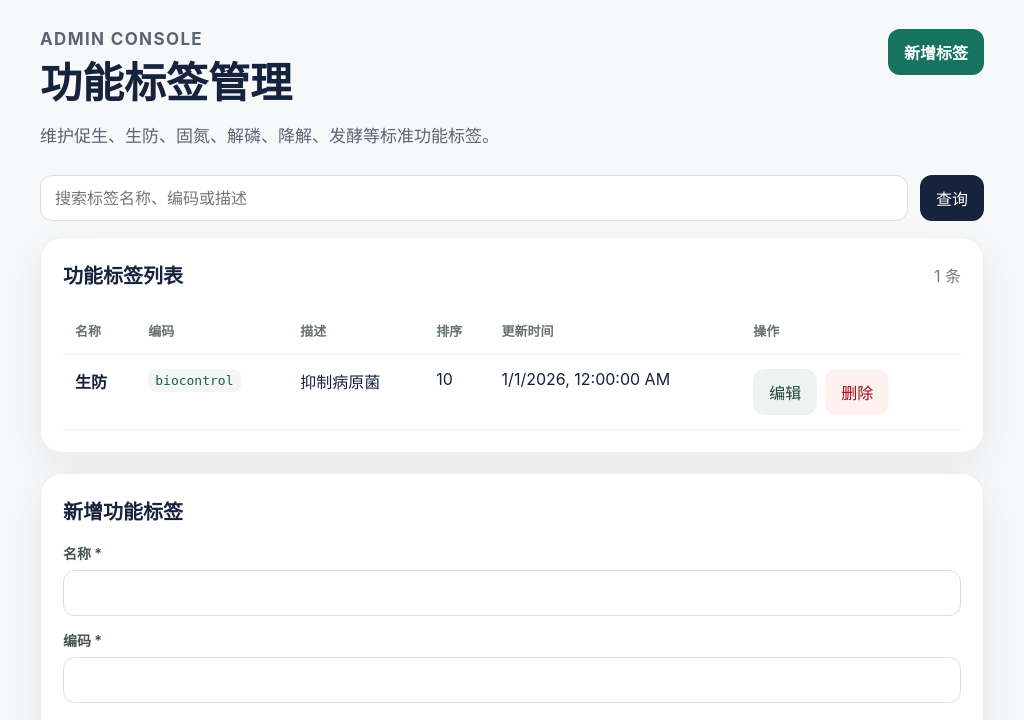
Test: FunctionTagManagement › 提交标准化功能标签
The image size is (1024, 720).
Expected: the text "biocontrol" is shown, 148,369 -> 240,392
Step 1. Type "固氮" into the field labelled "名称 *" → (512, 593), box 63,570 -> 961,616
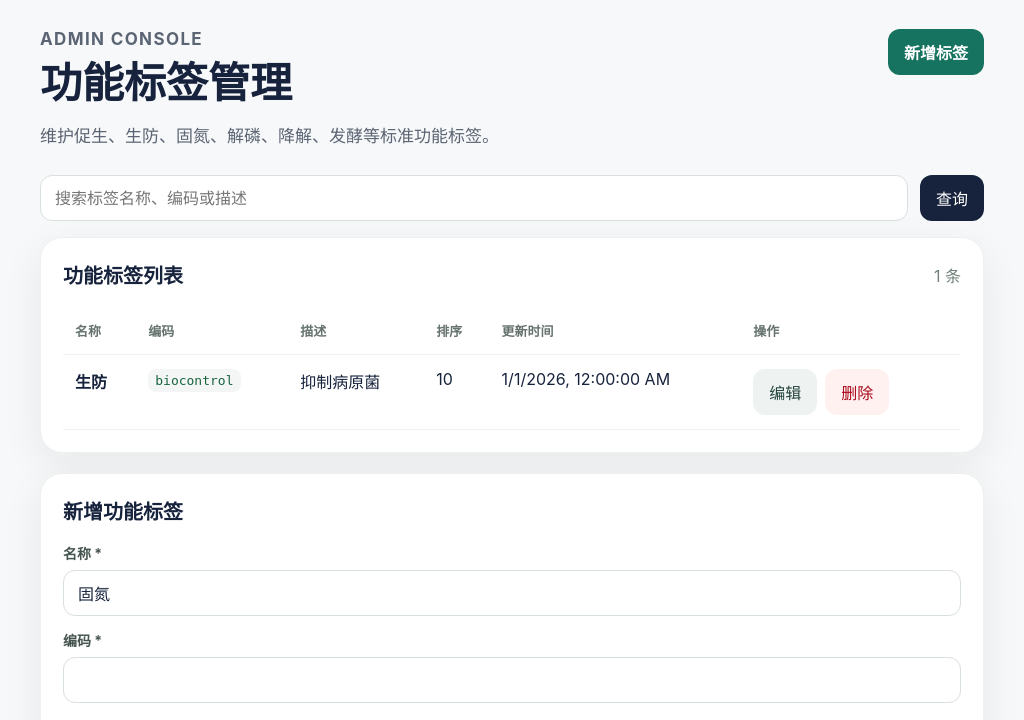
Step 2. Type "nitrogen-fixation" into the field labelled "编码 *" → (512, 680), box 63,657 -> 961,703
(page scrolled)
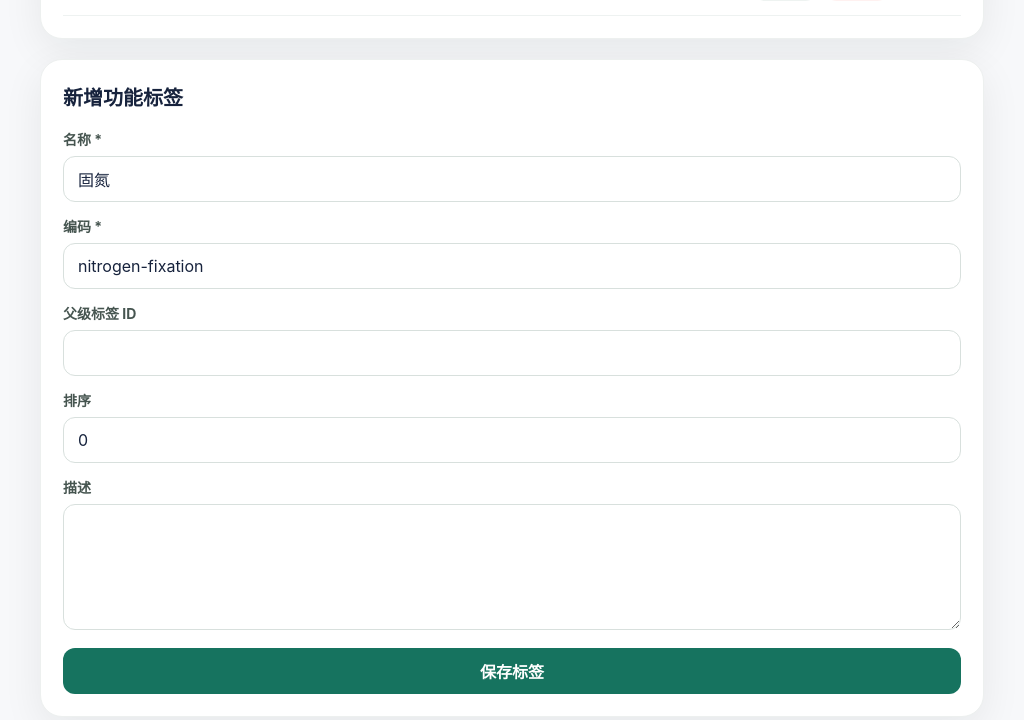
Step 3. Replace the text in the number field labelled "排序" with "20" → (512, 440), box 63,417 -> 961,463
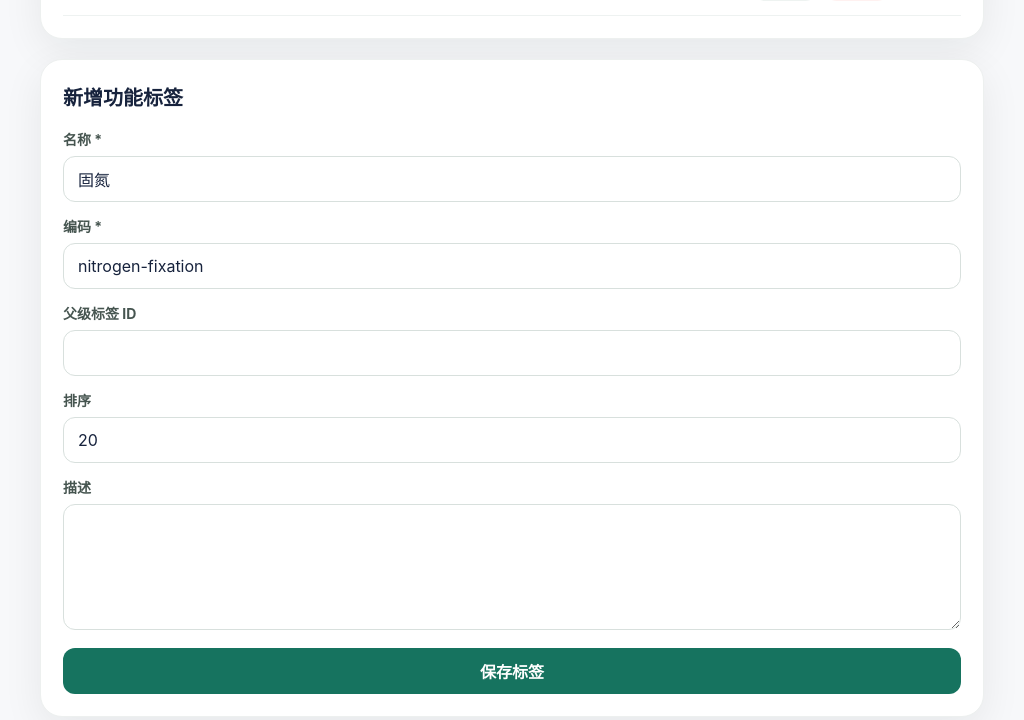
Step 4. Click the button "保存标签" → (512, 671), box 63,648 -> 961,694
(page scrolled)
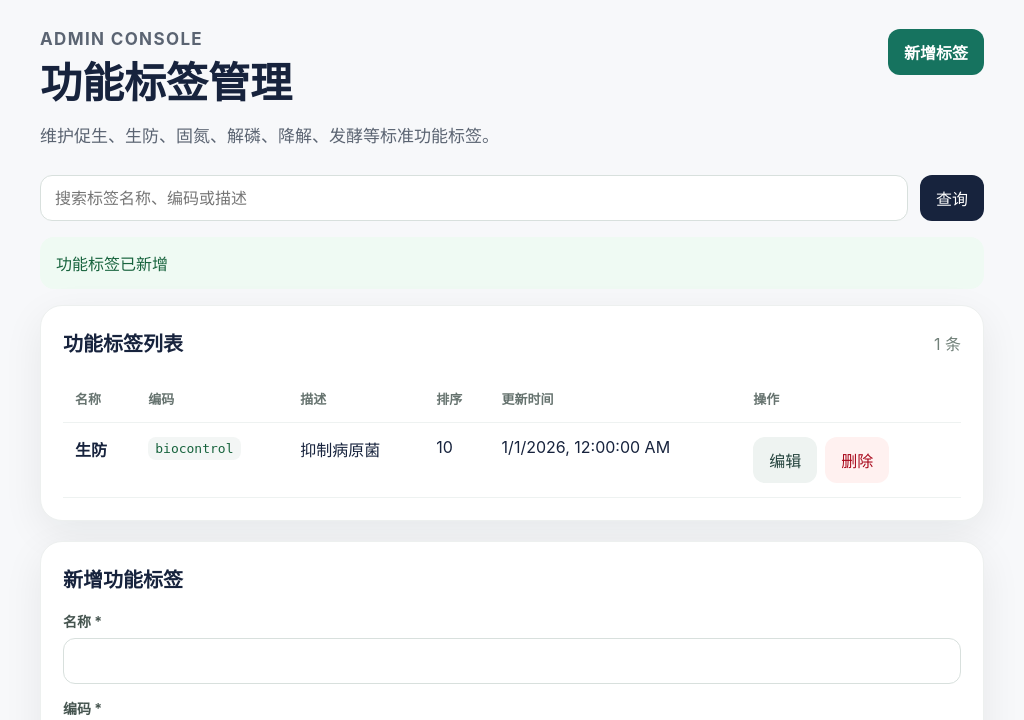
Result: the text "功能标签已新增" is shown at 40,237 -> 984,289
